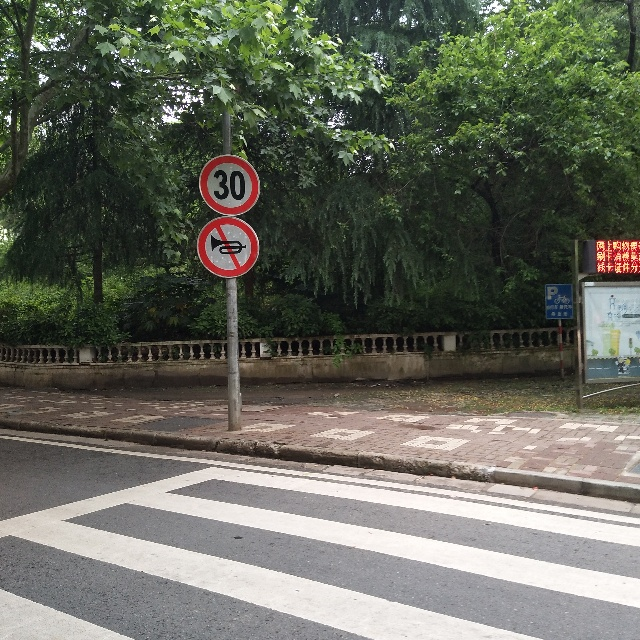nohonk: (208, 218, 247, 270)
